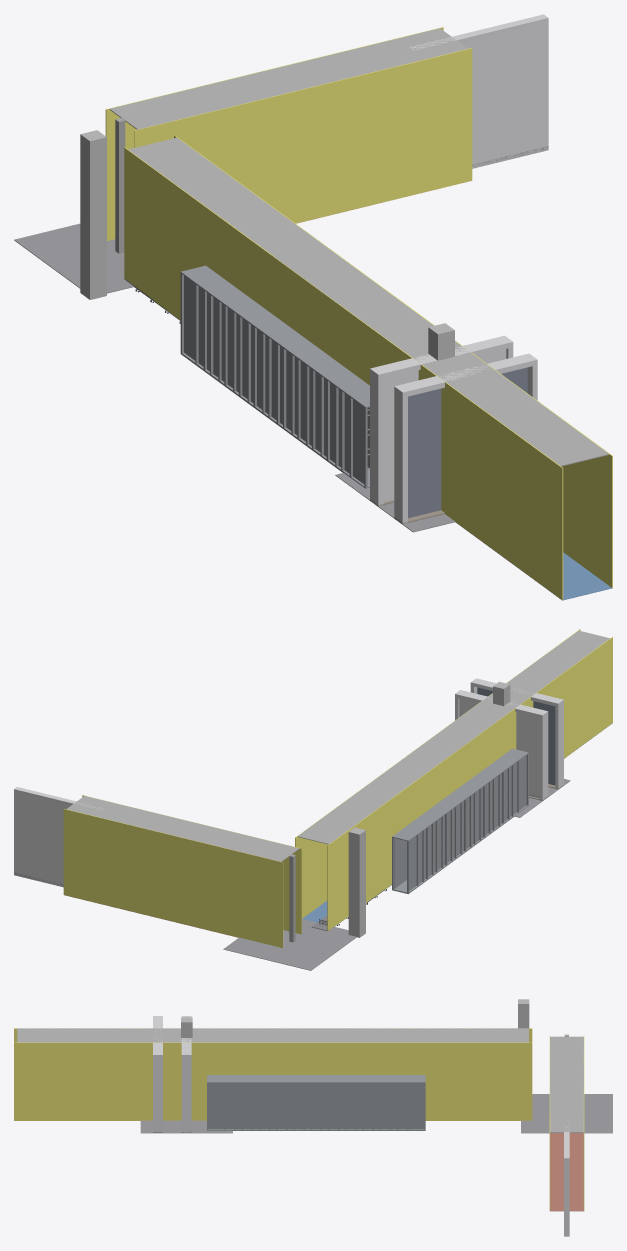
File: datacenter-shell.glb
The picture shows the model from 3 angles, top to bottom: view 1: azimuth 30°, elevation 25°; view 2: azimuth 150°, elevation 25°; view 3: azimuth 270°, elevation 25°; orthographic projection. The views are drawn at different scales.
Parts seen in each view (by area): view 1: guide_left.001 (×2), guide_left (×2), volume_marker (×2), volume_marker.001 (×2), wall (×2), rail_left (×7), guide_right, shaft (×2), door_leaf_left, floor_plate (×2), jamb_left (×2), header (×2) (+3 smaller); view 2: guide_right.001, guide_left (×2), volume_marker (×2), volume_marker.001 (×2), wall (×2), floor_plate, rail_left (×4), guide_right, shaft, jamb_left (×2), guide_left.001, header (×2) (+3 smaller); view 3: guide_right (×2), rail_left (×12), volume_marker (×2), guide_right.001, volume_marker.001 (×2), floor_plate (×2), floor_strip.001, jamb_right (×2), wall (×2), shaft.
Part boxes in pixels (left/top/right/bottom): guide_left.001 (×2): left=134, top=48, right=513, bottom=563; guide_left (×2): left=124, top=147, right=563, bottom=600; volume_marker (×2): left=128, top=137, right=609, bottom=466; volume_marker.001 (×2): left=109, top=28, right=561, bottom=430; wall (×2): left=371, top=14, right=548, bottom=505; rail_left (×7): left=184, top=276, right=364, bottom=484; guide_right: left=321, top=242, right=612, bottom=587; shaft (×2): left=80, top=130, right=454, bottom=360; door_leaf_left: left=408, top=388, right=441, bottom=518; floor_plate (×2): left=14, top=223, right=455, bottom=532; jamb_left (×2): left=370, top=367, right=407, bottom=523; header (×2): left=370, top=335, right=537, bottom=396; guide_right.001: left=63, top=809, right=283, bottom=947; guide_left (×2): left=327, top=637, right=612, bottom=930; volume_marker (×2): left=297, top=630, right=609, bottom=844; volume_marker.001 (×2): left=66, top=653, right=574, bottom=861; wall (×2): left=14, top=692, right=545, bottom=887; floor_plate: left=223, top=919, right=356, bottom=970; rail_left (×4): left=418, top=755, right=526, bottom=883; guide_right: left=295, top=701, right=481, bottom=918; shaft: left=348, top=827, right=365, bottom=937; jamb_left (×2): left=539, top=699, right=563, bottom=800; guide_left.001: left=82, top=795, right=301, bottom=934; header (×2): left=455, top=678, right=563, bottom=718; guide_right (×2): left=14, top=1042, right=532, bottom=1120; rail_left (×12): left=208, top=1083, right=424, bottom=1129; volume_marker (×2): left=17, top=1028, right=528, bottom=1042; guide_right.001: left=71, top=1042, right=301, bottom=1120; volume_marker.001 (×2): left=74, top=1028, right=583, bottom=1132; floor_plate (×2): left=140, top=1094, right=612, bottom=1133; floor_strip.001: left=550, top=1133, right=583, bottom=1211; jamb_right (×2): left=153, top=1053, right=191, bottom=1132; wall (×2): left=184, top=1046, right=569, bottom=1236; shaft: left=518, top=999, right=529, bottom=1028.
Size of the model in its own units: 11.8 by 3.8 by 20.8.
